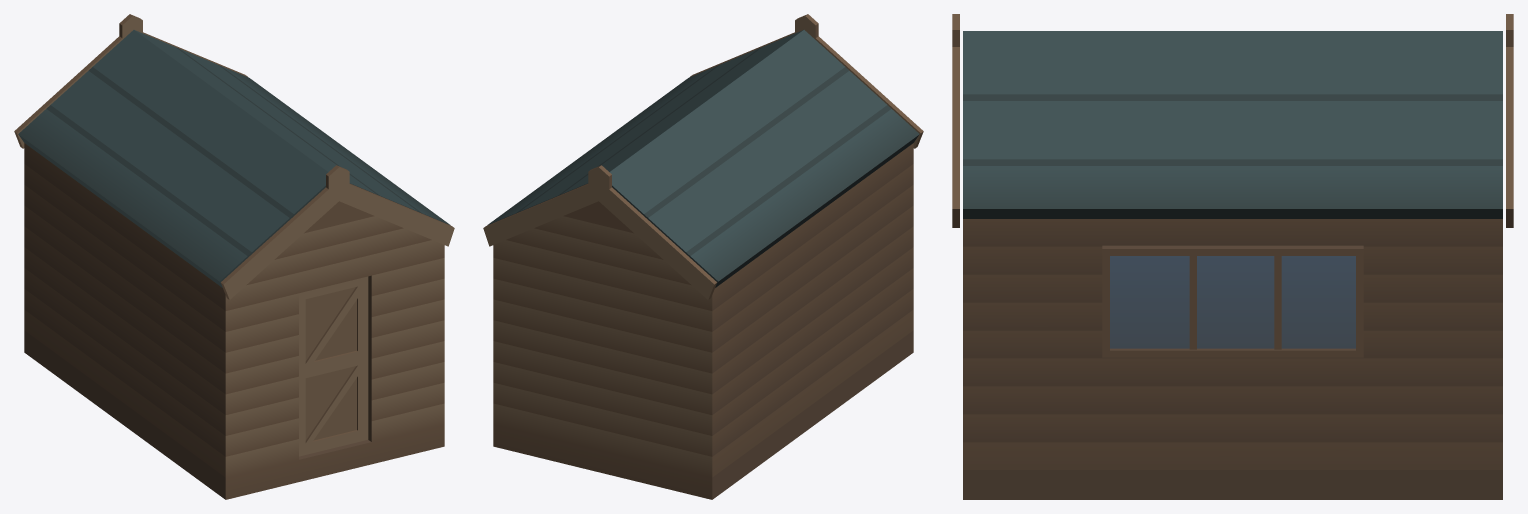
3 views of the same model, side by side, from view 1: azimuth 30°, elevation 25°; view 2: azimuth 150°, elevation 25°; view 3: azimuth 270°, elevation 25° (orthographic). The views are drawn at different scales.
Parts seen in each view (by area): view 1: base.145; view 2: base.145; view 3: base.145.
Boxes of the visible parts, x1=… form: base.145: x1=14, y1=14, x2=454, y2=499; base.145: x1=483, y1=14, x2=923, y2=499; base.145: x1=952, y1=14, x2=1513, y2=499.
Bounding box in the file's own units: 0.3188 × 0.407 × 0.5.
